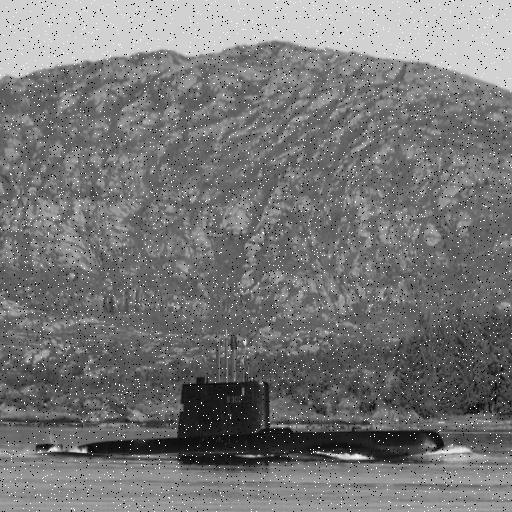submarine: (34, 332, 444, 456)
